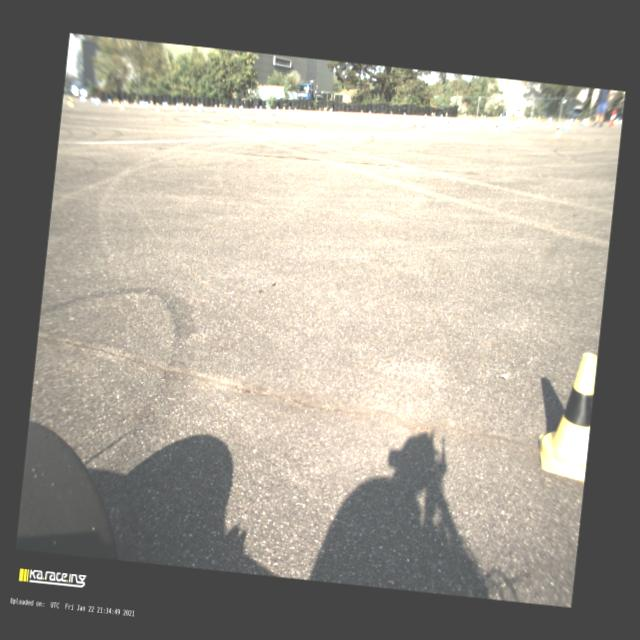yellow_cone: (534, 348, 598, 482)
